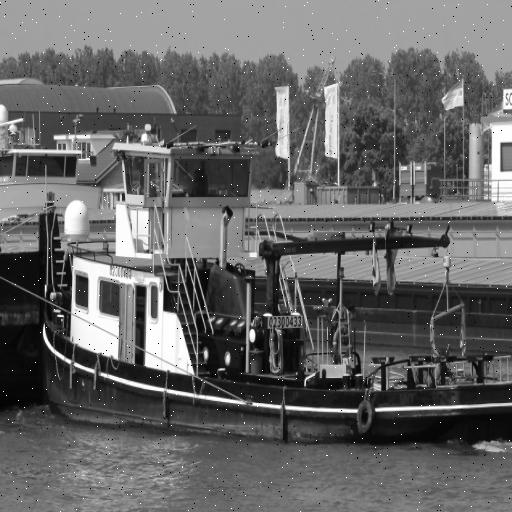tugboat: (37, 119, 512, 461)
